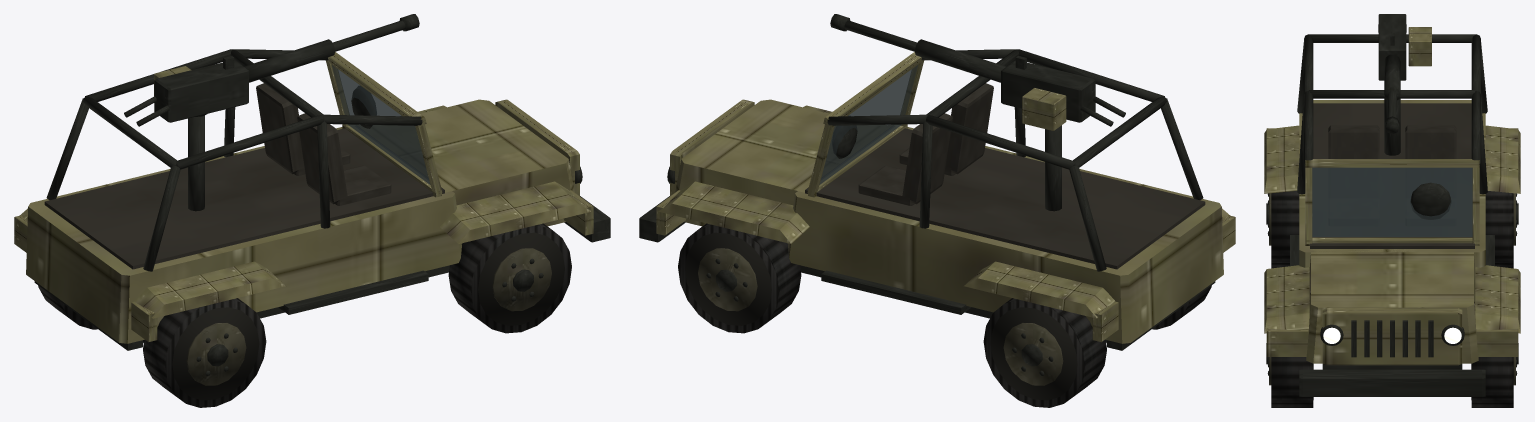
File: unit_warthog_0.glb
The picture shows the model from 3 angles, left to right: view 1: azimuth 30°, elevation 25°; view 2: azimuth 150°, elevation 25°; view 3: azimuth 270°, elevation 25°; orthographic projection. The views are drawn at different scales.
Parts seen in each view (by area): view 1: unit_warthog_0; view 2: unit_warthog_0; view 3: unit_warthog_0.
Boxes of the visible parts, <box> form: unit_warthog_0: <box>14,14,610,407</box>; unit_warthog_0: <box>639,14,1235,407</box>; unit_warthog_0: <box>1264,14,1520,407</box>.
Size of the model in its own units: 4.6 by 2.54 by 2.23.
Materials: 8 (5 with a texture image).
